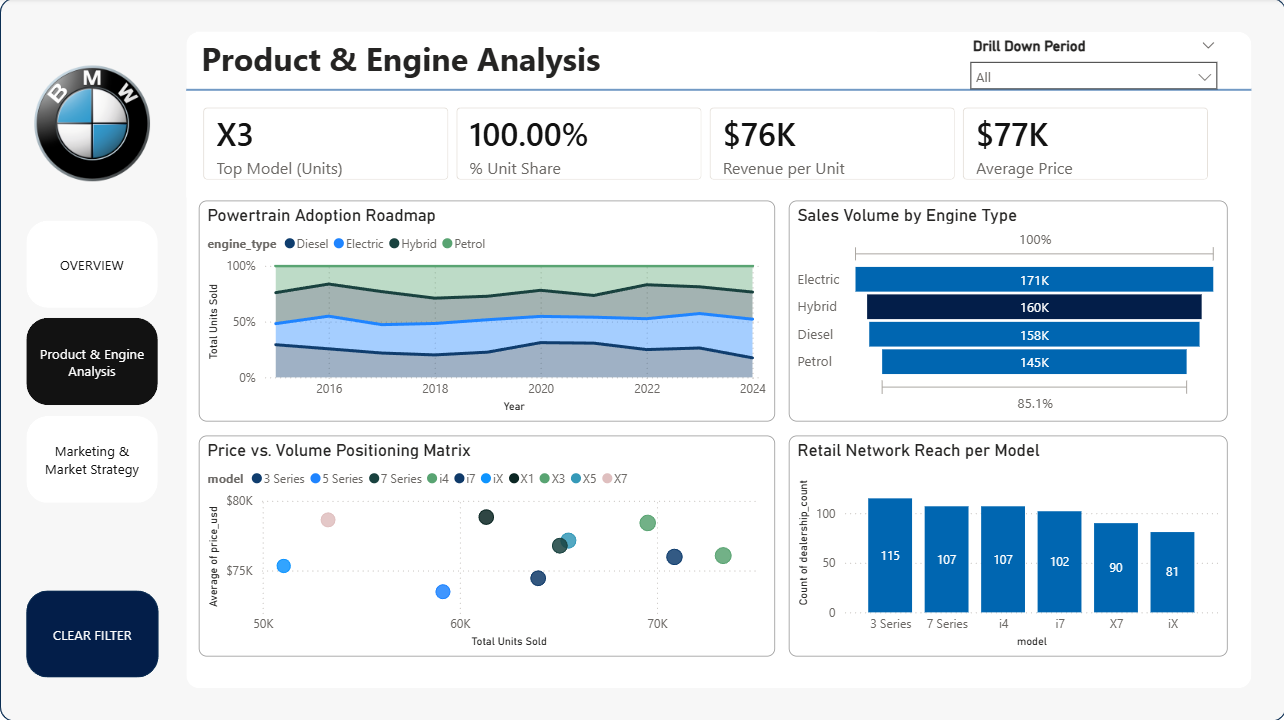

The dashboard page shown, as its layout file describes it:
{"tool":"powerbi","page":{"name":"Product & Engine Analysis","canvas":[1280,720],"ordinal":1},"visuals":[{"type":"shape","box":[0,0,1280,720],"z":0},{"type":"shape","box":[0,0,1280,720],"z":1000},{"type":"shape","box":[185,33.3,1060,653.3],"z":2000},{"type":"image","box":[26.7,66.7,131.7,115],"z":3000},{"type":"textbox","box":[195,33.3,676.7,58.3],"z":4000},{"type":"cardVisual","fields":{"Data":["bmw_global_sales_dataset.Top Model (Units)","bmw_global_sales_dataset.% Unit Share","bmw_global_sales_dataset.Revenue per Unit","bmw_global_sales_dataset.Average Price"]},"box":[185,91.7,1036.7,106.7],"z":5000},{"type":"shape","box":[185,61.7,1060,58.3],"z":6000},{"type":"pageNavigator","box":[26.7,221.7,131.7,283.3],"z":7000},{"type":"shape","box":[26.7,590,131.7,86.7],"z":8000},{"type":"scatterChart","title":"Price vs. Volume Positioning Matrix","fields":{"X":["bmw_global_sales_dataset.Total Units Sold"],"Y":["Avg(bmw_global_sales_dataset.price_usd)"],"Series":["bmw_global_sales_dataset.model"],"Size":["bmw_global_sales_dataset.Total Revenue"]},"box":[198.3,435,573.3,220],"z":9000},{"type":"funnel","title":"Sales Volume by Engine Type","fields":{"Category":["bmw_global_sales_dataset.engine_type"],"Y":["bmw_global_sales_dataset.Total Units Sold"]},"box":[785,201.7,436.7,220],"z":10000},{"type":"clusteredColumnChart","title":"Retail Network Reach per Model","fields":{"Category":["bmw_global_sales_dataset.model"],"Y":["CountNonNull(bmw_global_sales_dataset.dealership_count)"]},"box":[785,435,436.7,220],"z":11000},{"type":"hundredPercentStackedAreaChart","title":"Powertrain Adoption Roadmap","fields":{"Category":["bmw_global_sales_dataset.Date.Variation.Date Hierarchy.Year","bmw_global_sales_dataset.Date.Variation.Date Hierarchy.Quarter","bmw_global_sales_dataset.Date.Variation.Date Hierarchy.Month","bmw_global_sales_dataset.Date.Variation.Date Hierarchy.Day"],"Y":["bmw_global_sales_dataset.Total Units Sold"],"Series":["bmw_global_sales_dataset.engine_type"]},"box":[198.3,201.7,573.3,220],"z":12000},{"type":"slicer","fields":{"Values":["bmw_global_sales_dataset.Date.Variation.Date Hierarchy.Year","bmw_global_sales_dataset.Date.Variation.Date Hierarchy.Quarter","bmw_global_sales_dataset.Date.Variation.Date Hierarchy.Month"]},"box":[955.4,34.8,266.2,57.2],"z":12001}]}

Visuals, with their boxes in screenshot pixels (x1, y1, x2, y2), scaled from the page's 1280x720 canvas onto the 1284x720 screenshot:
shape: box(0, 0, 1283, 719)
shape: box(0, 0, 1283, 719)
shape: box(186, 33, 1249, 687)
image: box(27, 67, 159, 182)
textbox: box(196, 33, 874, 92)
cardVisual - bmw_global_sales_dataset.Top Model (Units) x bmw_global_sales_dataset.% Unit Share: box(186, 92, 1226, 198)
shape: box(186, 62, 1249, 120)
pageNavigator: box(27, 222, 159, 505)
shape: box(27, 590, 159, 677)
"Price vs. Volume Positioning Matrix" scatterChart: box(199, 435, 774, 655)
"Sales Volume by Engine Type" funnel: box(787, 202, 1226, 422)
"Retail Network Reach per Model" clusteredColumnChart: box(787, 435, 1226, 655)
"Powertrain Adoption Roadmap" hundredPercentStackedAreaChart: box(199, 202, 774, 422)
slicer - bmw_global_sales_dataset.Date.Variation.Date Hierarchy.Year x bmw_global_sales_dataset.Date.Variation.Date Hierarchy.Quarter: box(958, 35, 1225, 92)
